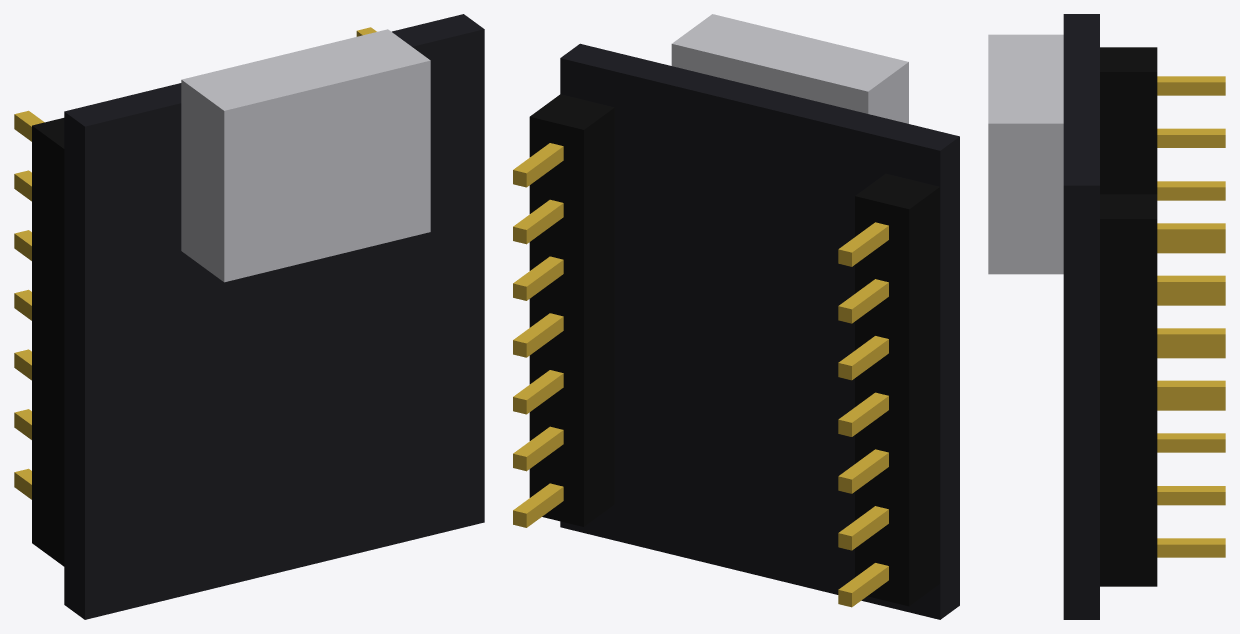
The model's file is mod-xiao.glb.
3 views of the same model, side by side, from view 1: azimuth 30°, elevation 25°; view 2: azimuth 150°, elevation 25°; view 3: azimuth 270°, elevation 25° (orthographic). The views are drawn at different scales.
Parts seen in each view (by area): view 1: PCB-ESP, MET-PORT, HEADER; view 2: PCB-ESP, HEADER, MET-PIN (×14), MET-PORT; view 3: HEADER, PCB-ESP, MET-PORT, MET-PIN (×14).
Boxes of the visible parts, x1,y1,x2,y2 form: PCB-ESP: (64,14,484,619); MET-PORT: (181,29,430,282); HEADER: (32,118,64,566); PCB-ESP: (560,43,959,619); HEADER: (529,94,939,606); MET-PIN (×14): (513,143,888,607); MET-PORT: (671,14,908,123); HEADER: (1100,47,1157,586); PCB-ESP: (1063,14,1099,619); MET-PORT: (988,34,1063,274); MET-PIN (×14): (1157,76,1225,557).
Bounding box in the file's own units: 17.8 × 22 × 10.4.
